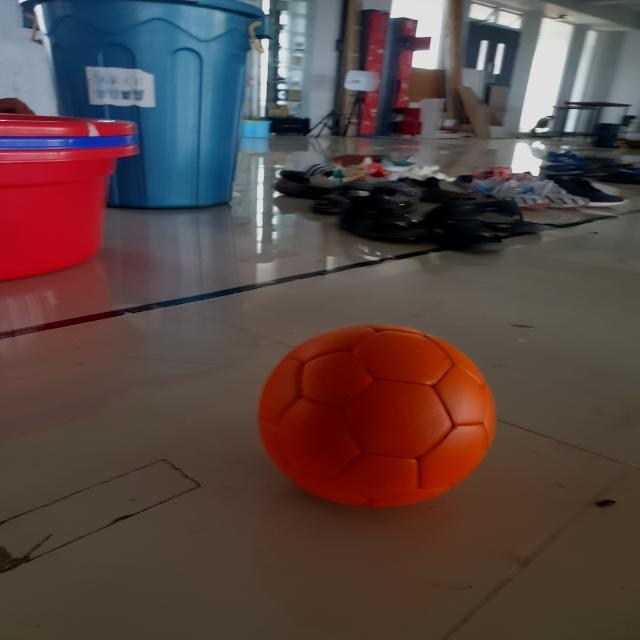bola: (242, 317, 522, 521)
